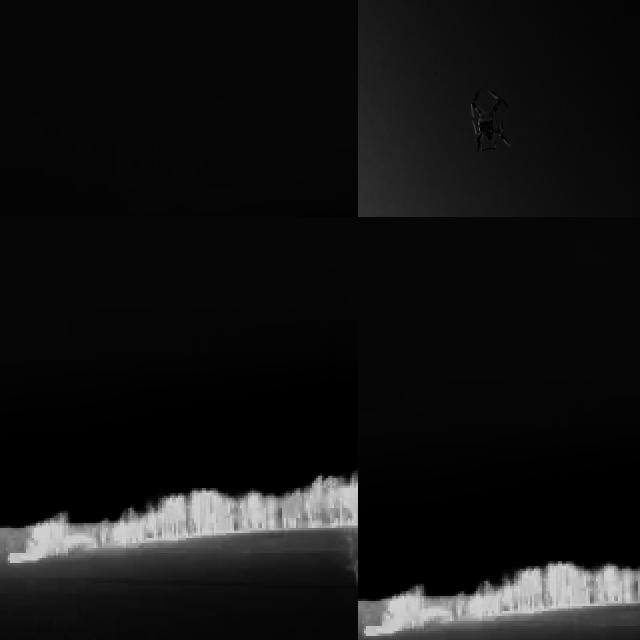drone: (466, 85, 518, 163)
